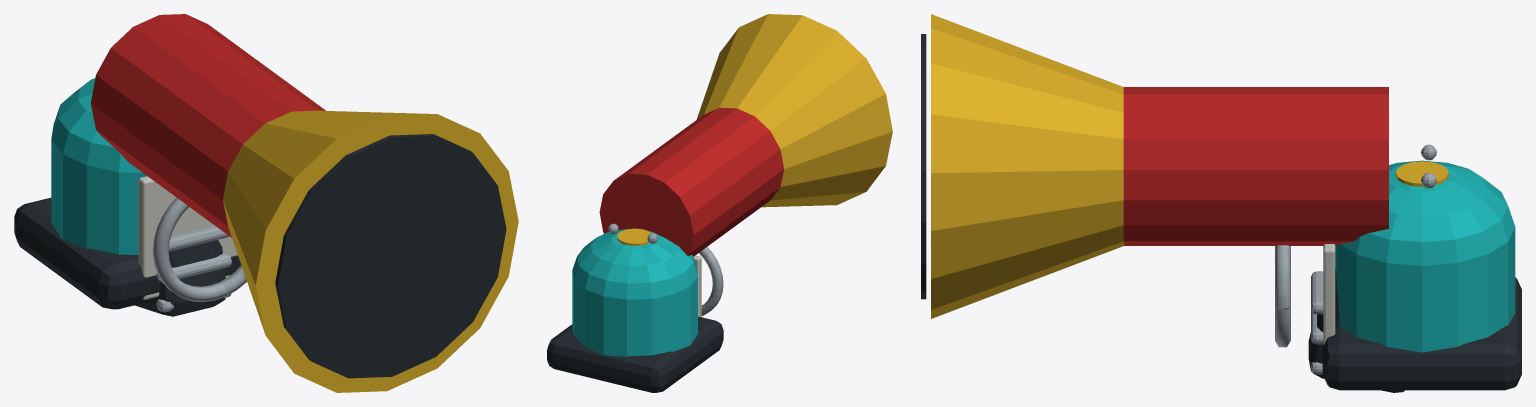
The model's file is confetti-cannon.glb.
3 renders of one model, left to right at view 1: azimuth 30°, elevation 25°; view 2: azimuth 150°, elevation 25°; view 3: azimuth 270°, elevation 25°, orthographic. The views are drawn at different scales.
Visible parts, largest first — view 1: barrel; view 2: barrel; view 3: barrel.
Boxes of the visible parts, x1=… form: barrel: x1=14, y1=14, x2=518, y2=392; barrel: x1=547, y1=14, x2=892, y2=392; barrel: x1=921, y1=14, x2=1521, y2=392.
Bounding box in the file's own units: 0.46 × 0.5889 × 0.905.
